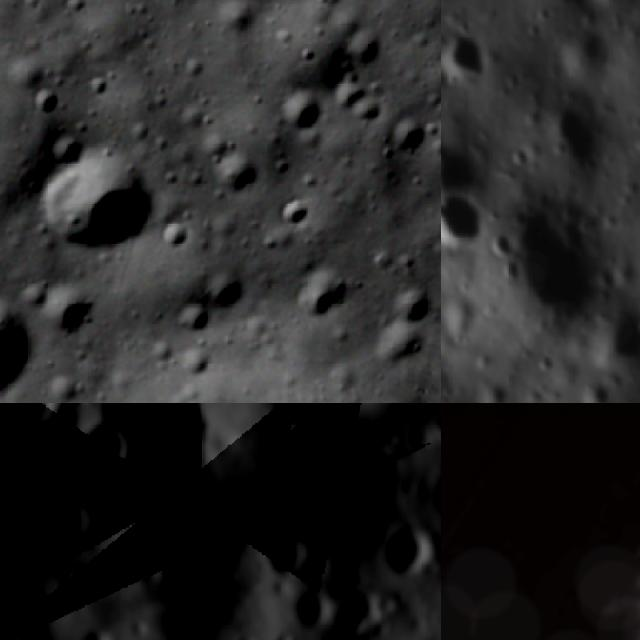crater: (49, 403, 266, 539), (15, 127, 169, 266), (215, 403, 415, 469), (509, 198, 603, 323), (67, 406, 141, 488), (0, 269, 44, 403), (369, 510, 441, 590), (253, 524, 325, 594), (319, 579, 395, 640), (0, 403, 86, 455), (546, 105, 612, 171), (190, 144, 263, 201), (278, 575, 346, 635), (293, 262, 348, 323), (268, 86, 328, 140), (46, 492, 102, 548), (41, 286, 100, 336), (441, 31, 492, 88), (441, 189, 487, 248), (600, 306, 640, 363), (268, 194, 313, 242), (292, 499, 338, 545), (390, 111, 436, 154), (389, 284, 432, 326), (26, 82, 67, 126), (172, 299, 215, 337), (79, 66, 122, 104), (70, 617, 123, 640), (161, 217, 192, 253), (475, 379, 518, 403), (292, 40, 321, 67)
